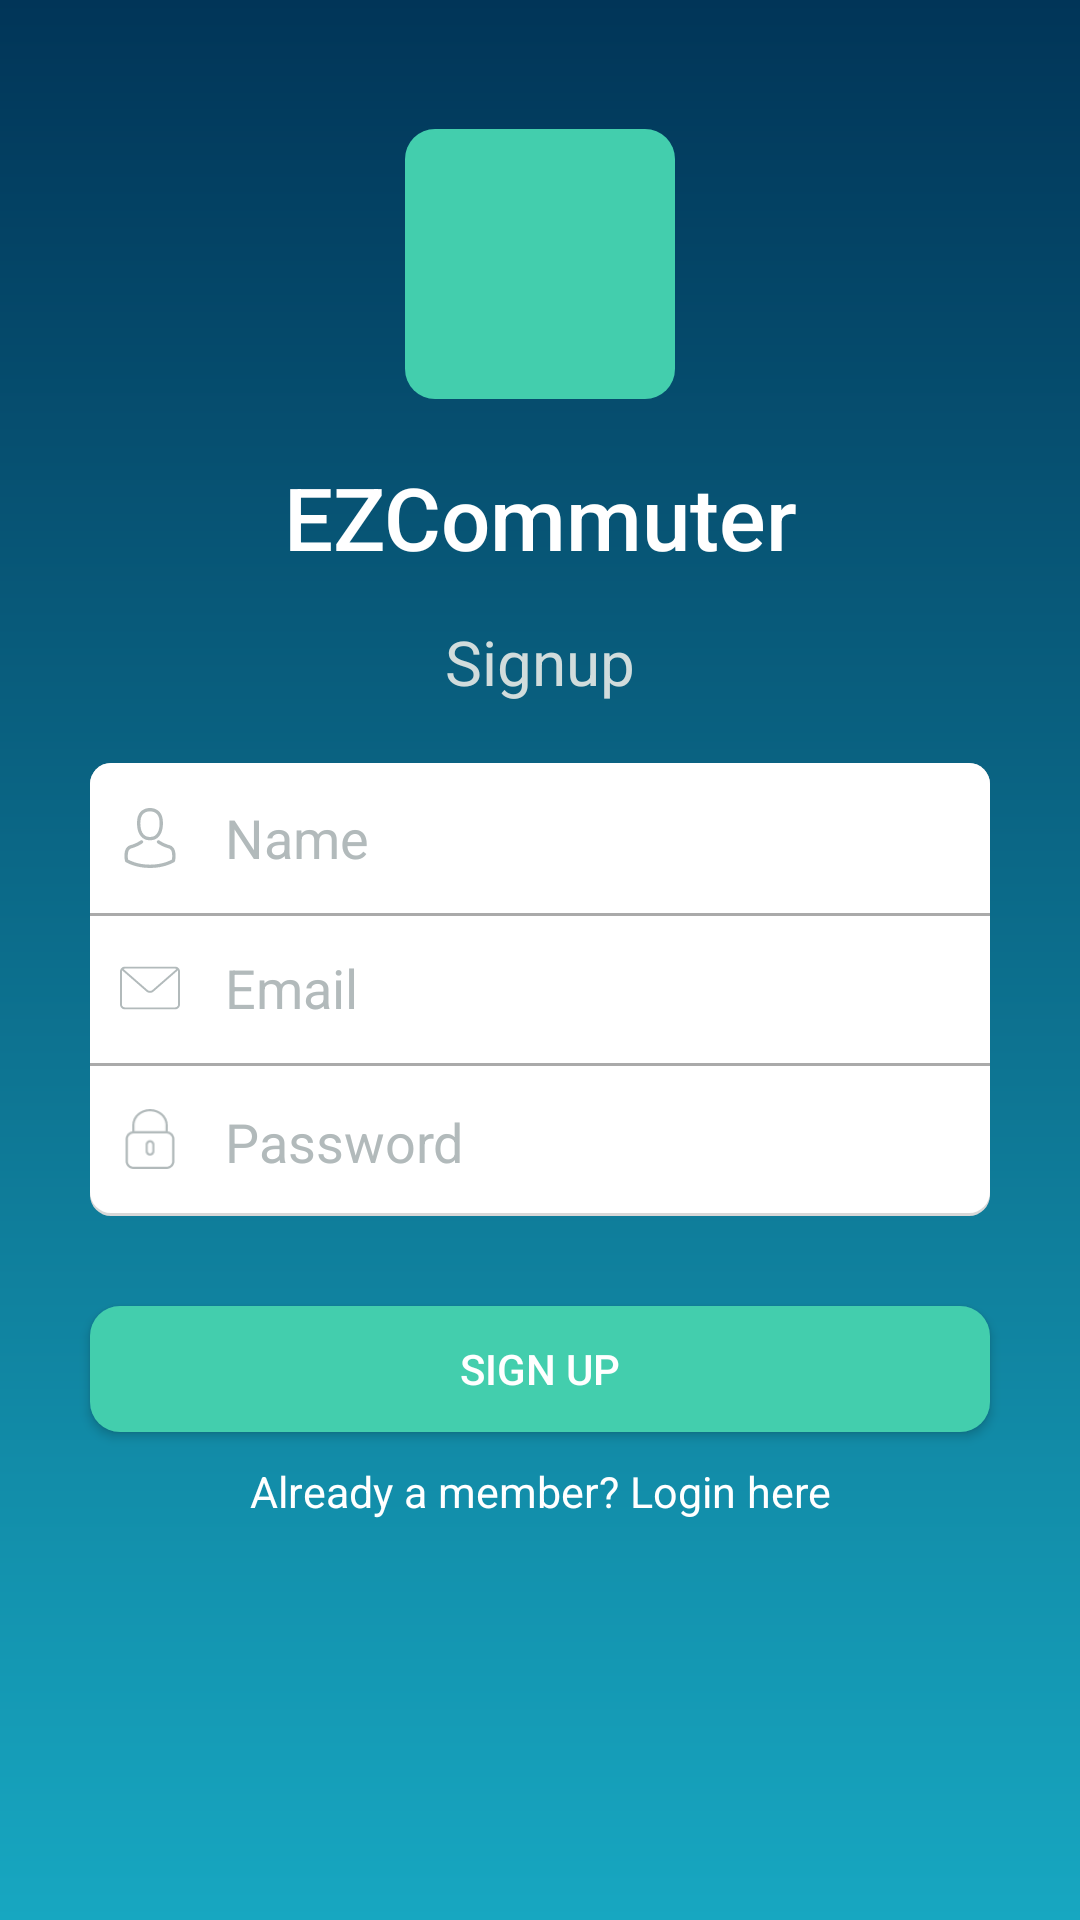

Icons on this 1080 × 1920 Android screen, each with its box as (x1, y1, x2, y2):
locked: (125, 1109, 175, 1169)
